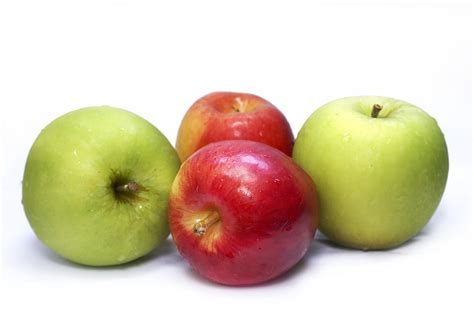apple: (20, 104, 180, 267), (291, 94, 452, 253), (165, 137, 326, 289), (173, 89, 298, 175)
